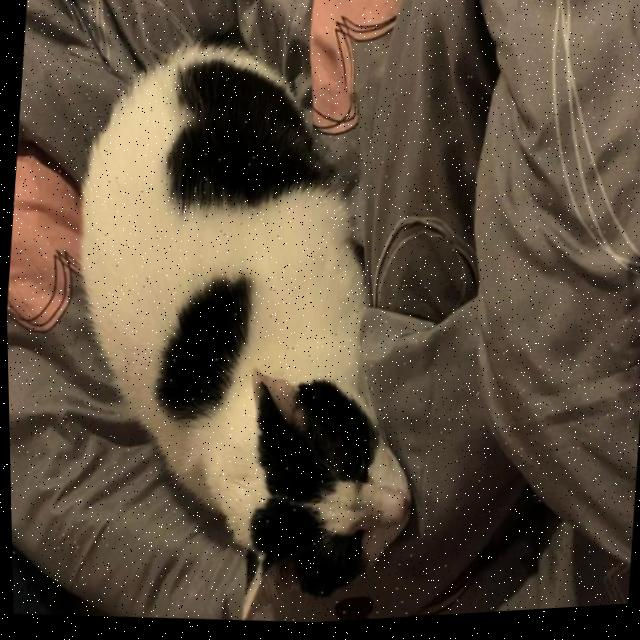Cats: (23, 0, 469, 639)
